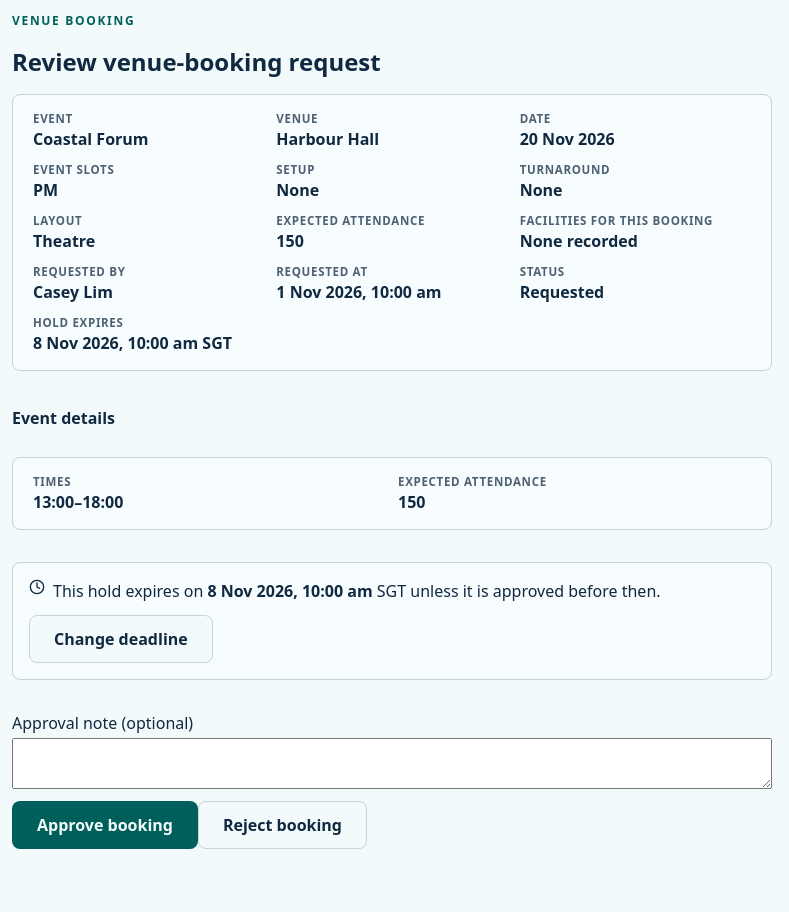
Test: [QA-SPL-133-091] changes the deadline in Singapore time and shows the new one
The image size is (789, 912).
Click the button "Change deadline" at (121, 639), box [29, 615, 213, 663]
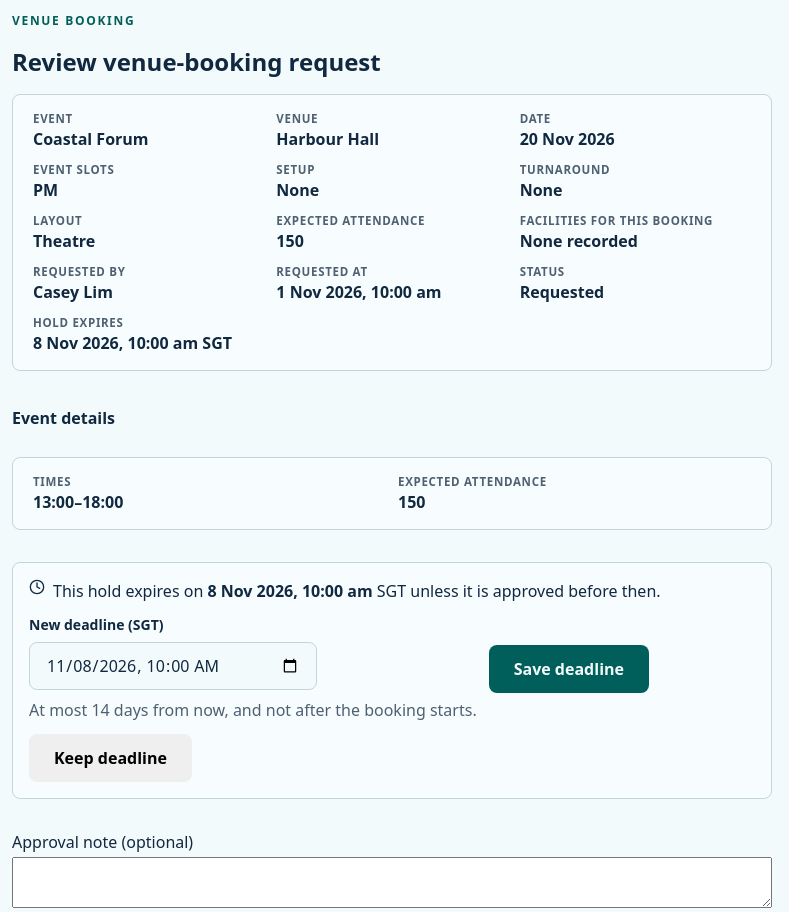
expect the field labelled "New deadline (SGT)" holds "2026-11-08T10:00": met
Replace the text in the field labelled "New deadline (SGT)" with "2026-11-05T12:00" at (173, 666), box [29, 642, 317, 690]
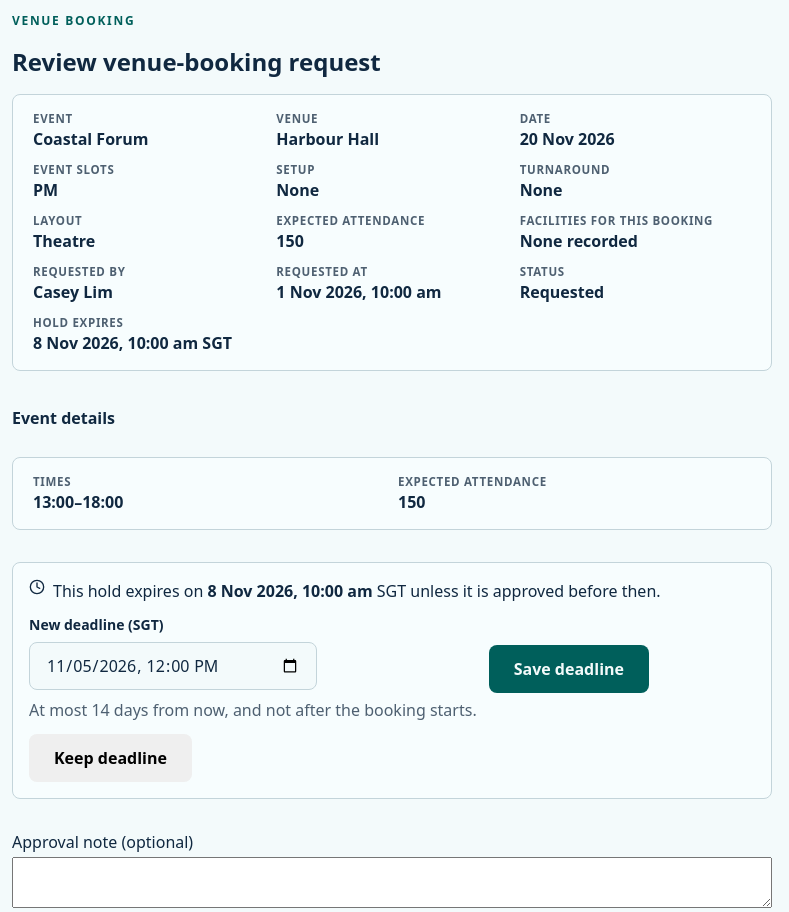
Click the button "Save deadline" at (569, 668), box [489, 644, 649, 692]
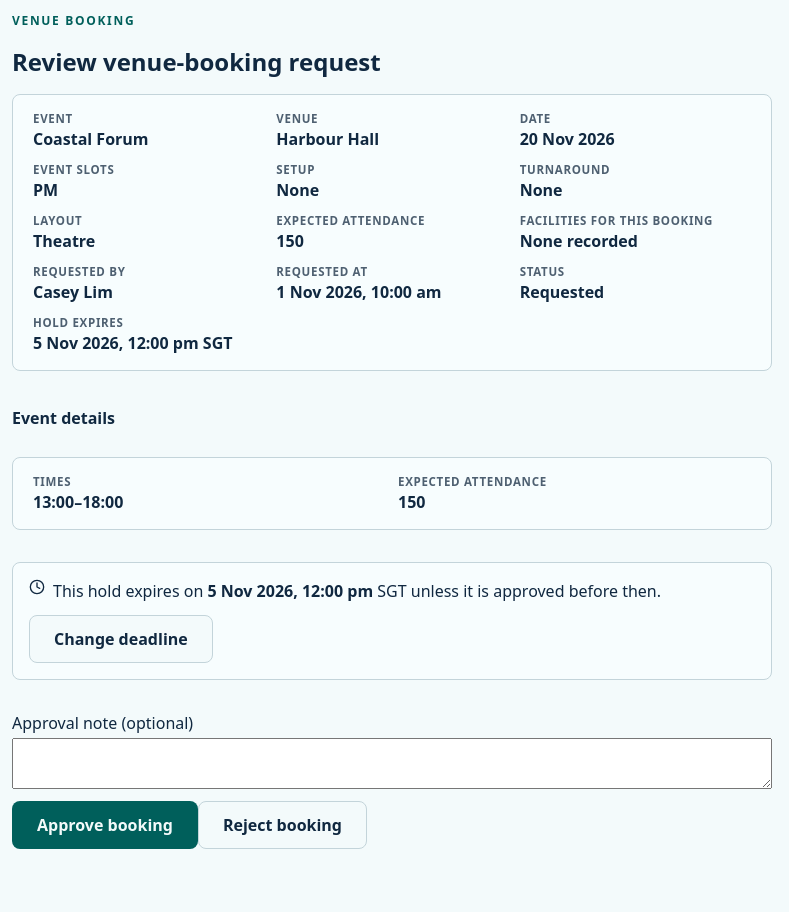
expect the text "5 Nov 2026, 12:00 pm" is shown: met, box [207, 580, 373, 602]
